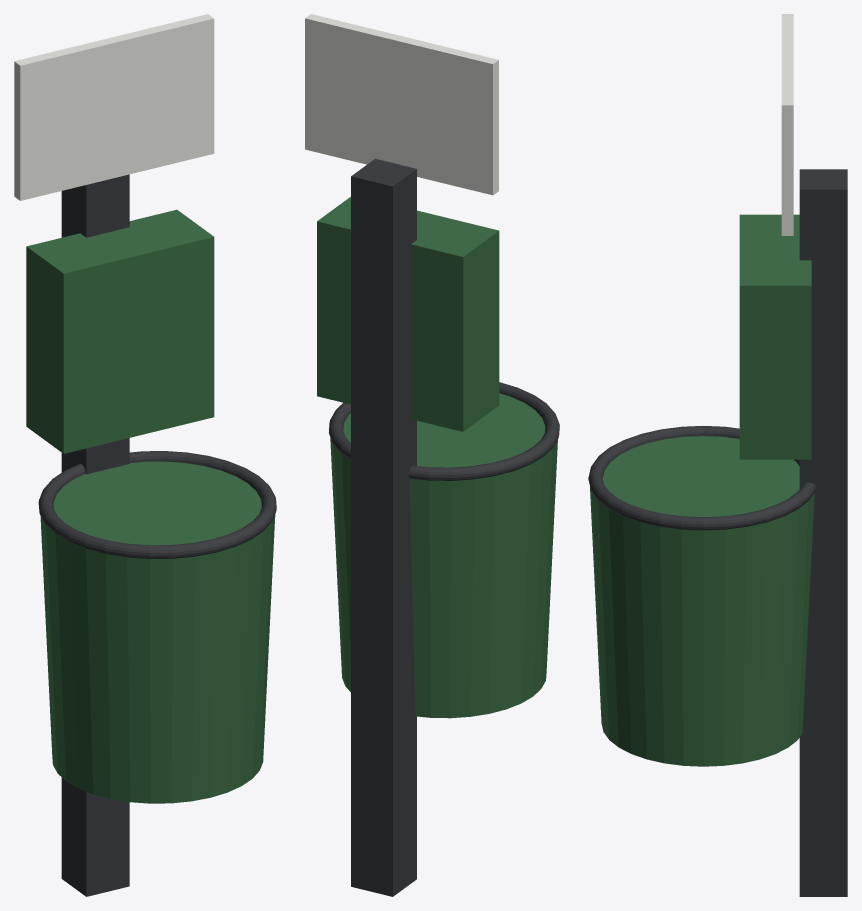
3 renders of one model, left to right at view 1: azimuth 30°, elevation 25°; view 2: azimuth 150°, elevation 25°; view 3: azimuth 270°, elevation 25°, orthographic. The views are drawn at different scales.
Parts seen in each view (by area): view 1: baseOffset=0;depth=0.3;height=1.3;material=plastic_green;pow (×3); view 2: baseOffset=0;depth=0.3;height=1.3;material=plastic_green;pow (×3); view 3: baseOffset=0;depth=0.3;height=1.3;material=plastic_green;pow (×3).
Boxes of the visible parts, x1,y1,x2,y2 form: baseOffset=0;depth=0.3;height=1.3;material=plastic_green;pow (×3): [14, 14, 276, 896]; baseOffset=0;depth=0.3;height=1.3;material=plastic_green;pow (×3): [305, 14, 559, 896]; baseOffset=0;depth=0.3;height=1.3;material=plastic_green;pow (×3): [588, 14, 847, 896].
Bounding box in the file's own units: 0.384 × 0.432 × 1.52.
